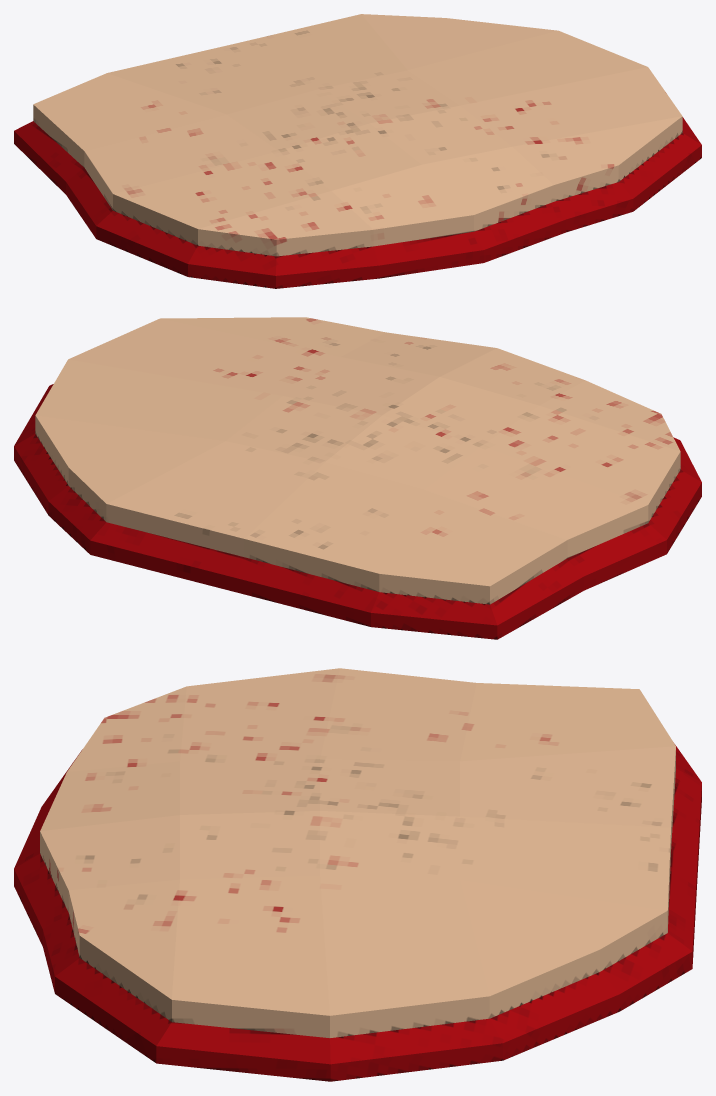
The model's file is Flesh.fbx.
3 renders of one model, top to bottom at view 1: azimuth 30°, elevation 25°; view 2: azimuth 150°, elevation 25°; view 3: azimuth 270°, elevation 25°, orthographic. The views are drawn at different scales.
Visible parts, largest first — view 1: Flesh; view 2: Flesh; view 3: Flesh.
Boxes of the visible parts, box(x1,y1,x2,y2) form: Flesh: box(14, 14, 701, 288); Flesh: box(14, 317, 701, 639); Flesh: box(14, 668, 701, 1081).
Size of the model in its own units: 32.51 by 3.08 by 25.56.
1 material, 1 textured.
